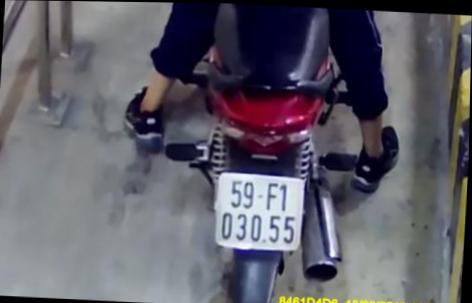LP: (214, 170, 308, 252)
